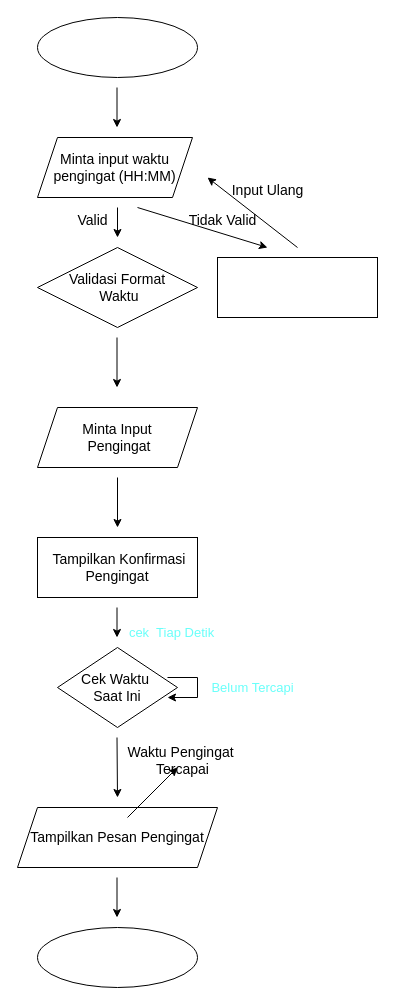
This 395x1005 diagram has some shape labels left out. Here are the shapes that lost their labels. From the top down, the centre of each, then its label:
At [117,47]: "Mulai program".
At [297,287]: "Format Waktu Tidak valid Minta input Ulang".
At [117,957]: "Akhir Waktu Perogram".
